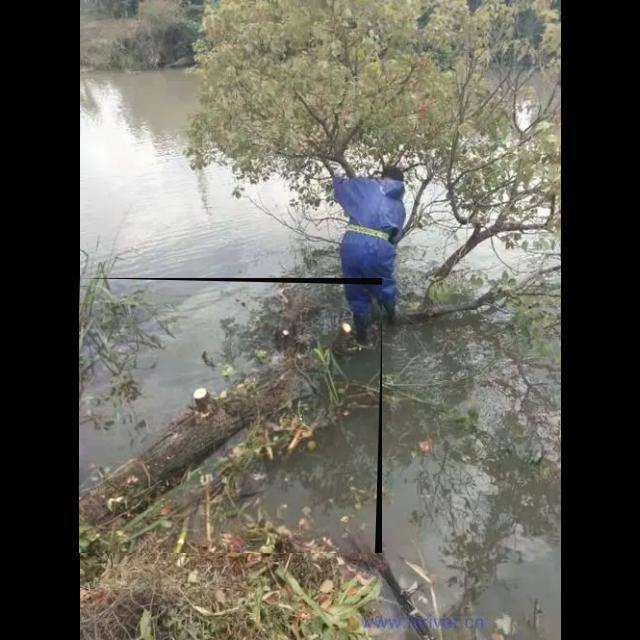fallen_tree: (79, 278, 383, 554)
